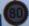Speed Limit -80-: (0, 0, 28, 25)
